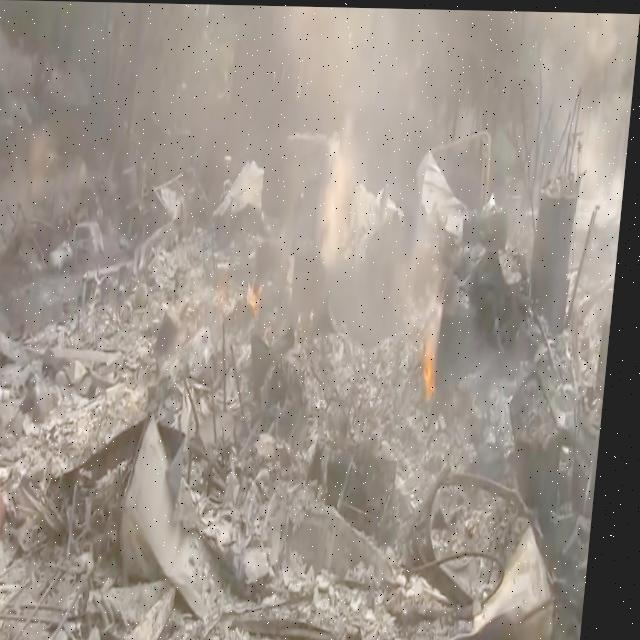Fire: (425, 350, 447, 392), (250, 274, 268, 306)
